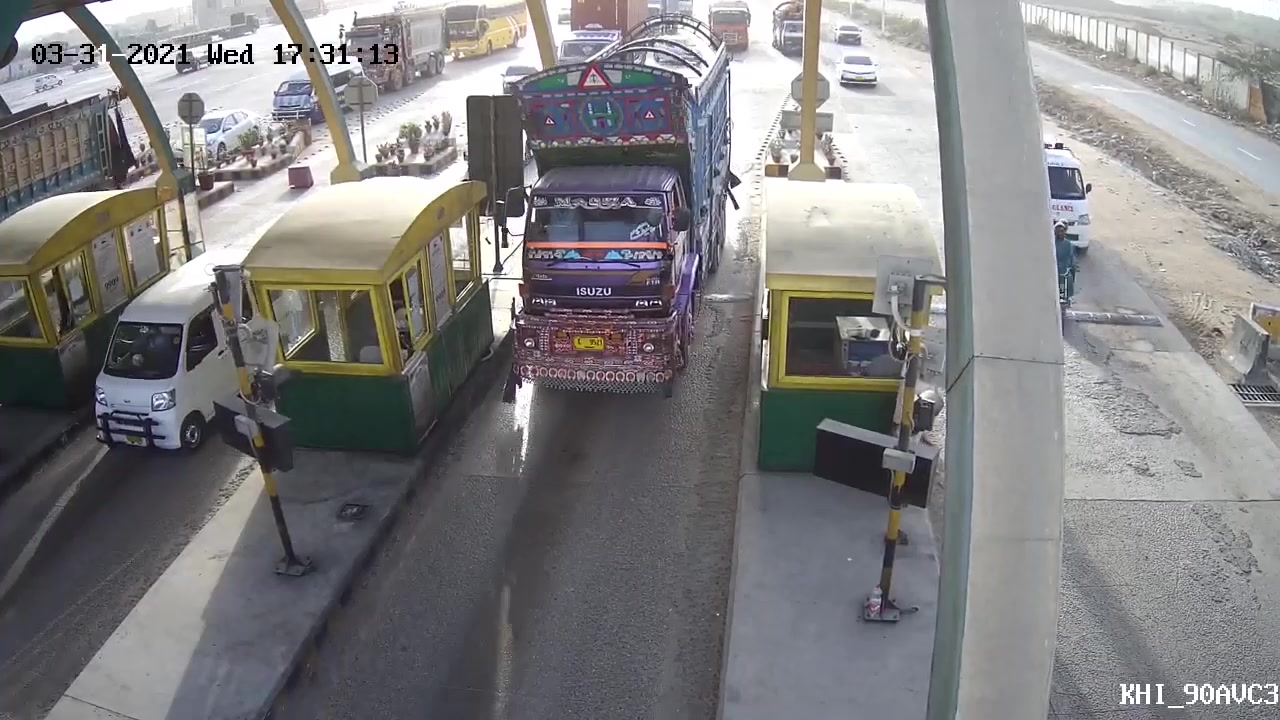F5: (486, 66, 726, 414)
